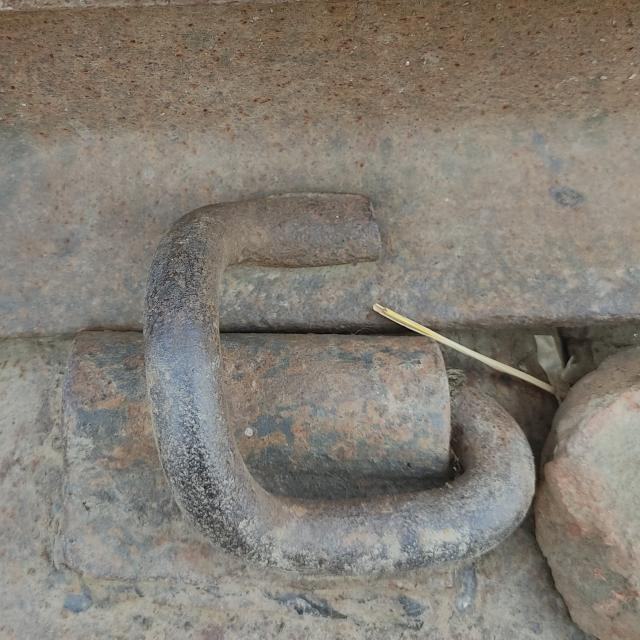track_bolt: (135, 187, 542, 585)
